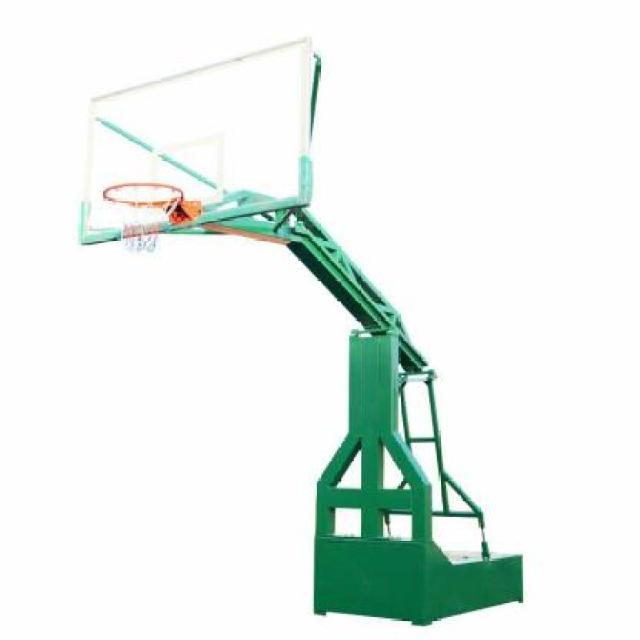rim: (103, 180, 181, 253)
